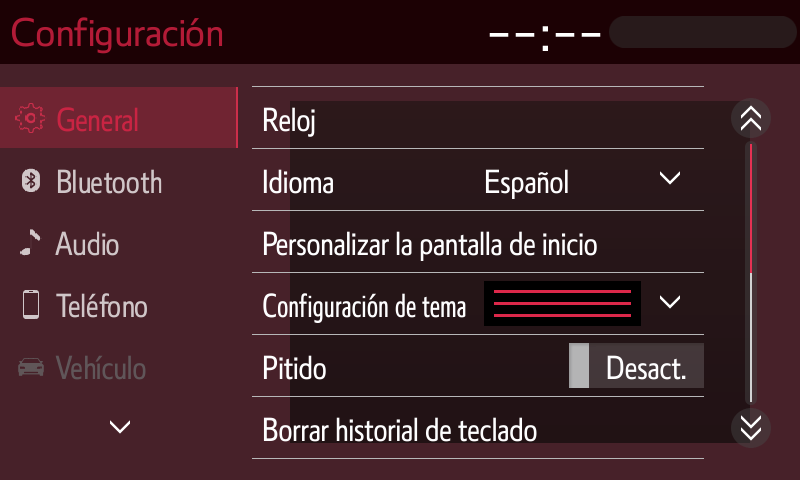touchPart: (248, 141, 707, 220), (241, 329, 710, 402), (245, 206, 709, 279), (242, 267, 710, 339), (239, 393, 707, 464), (249, 80, 705, 150), (21, 284, 155, 333), (15, 222, 134, 269), (14, 167, 168, 201), (729, 406, 772, 451), (730, 98, 771, 143), (99, 417, 146, 441)
untouchPart: (2, 81, 238, 155), (474, 15, 793, 53), (11, 13, 234, 47), (15, 350, 150, 388)
